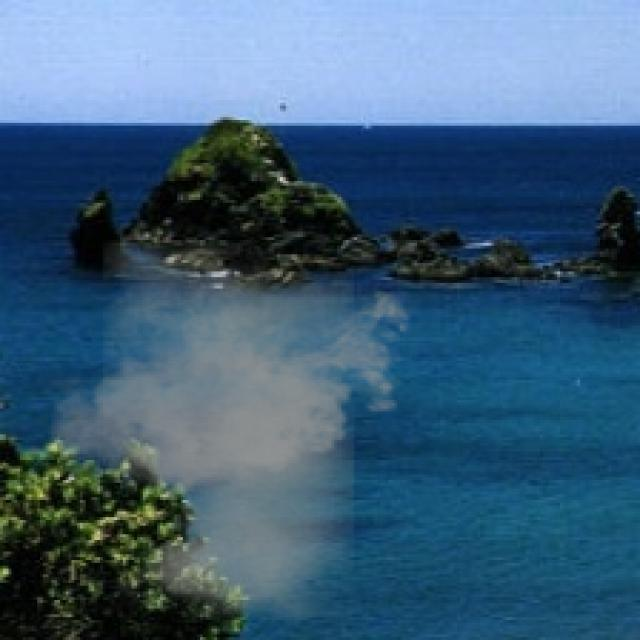smoke: (34, 240, 423, 623)
